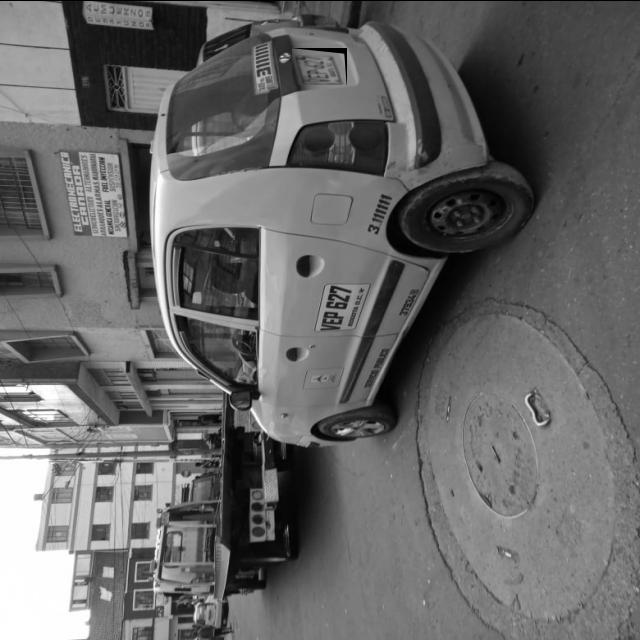plate: (292, 49, 347, 84)
